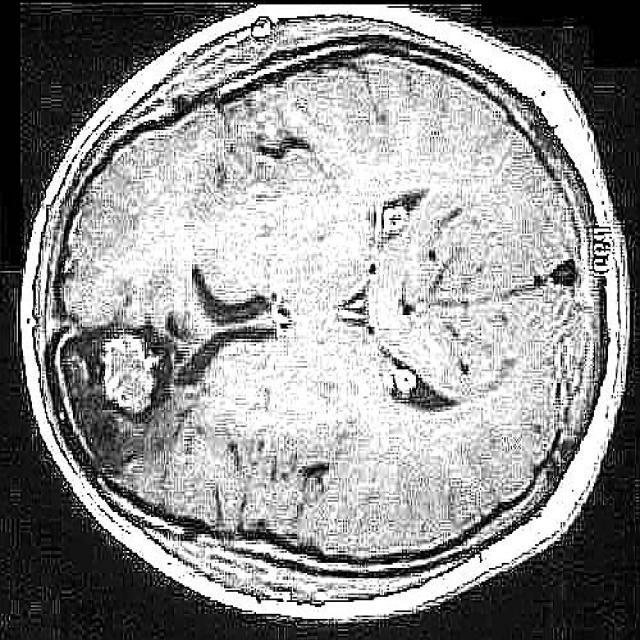tumor: (63, 323, 189, 446)
